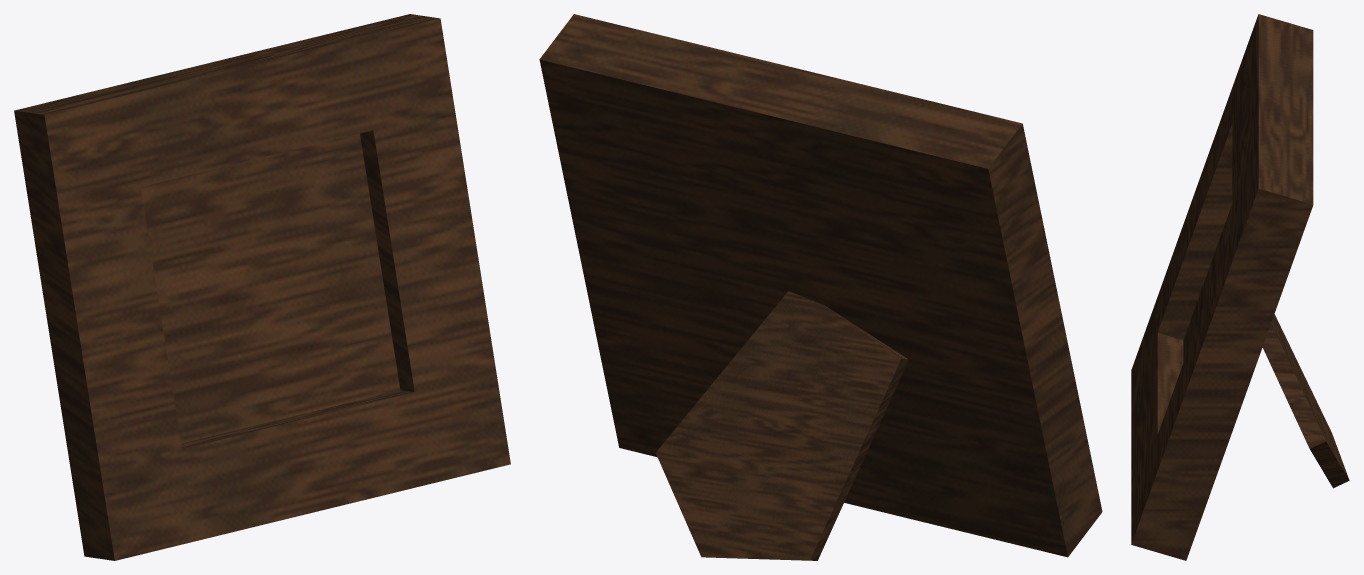
Rendered from Photoframe.fbx.
The picture shows the model from 3 angles, left to right: view 1: azimuth 30°, elevation 25°; view 2: azimuth 150°, elevation 25°; view 3: azimuth 270°, elevation 25°; orthographic projection. The views are drawn at different scales.
Parts seen in each view (by area): view 1: Photoframe01; view 2: Photoframe01, Photoframe; view 3: Photoframe01, Photoframe.
Boxes of the visible parts, <box> form: Photoframe01: <box>14,14,510,560</box>; Photoframe01: <box>539,14,1102,557</box>; Photoframe: <box>656,291,907,560</box>; Photoframe01: <box>1131,14,1313,560</box>; Photoframe: <box>1262,314,1349,488</box>.
Size of the model in its own units: 0.25 by 0.2486 by 0.1321.
Materials: 1 (1 with a texture image).
